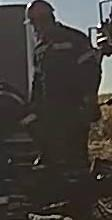gloves: (83, 91, 103, 122)
helmet: (23, 0, 55, 25)
vest: (28, 29, 102, 132)
